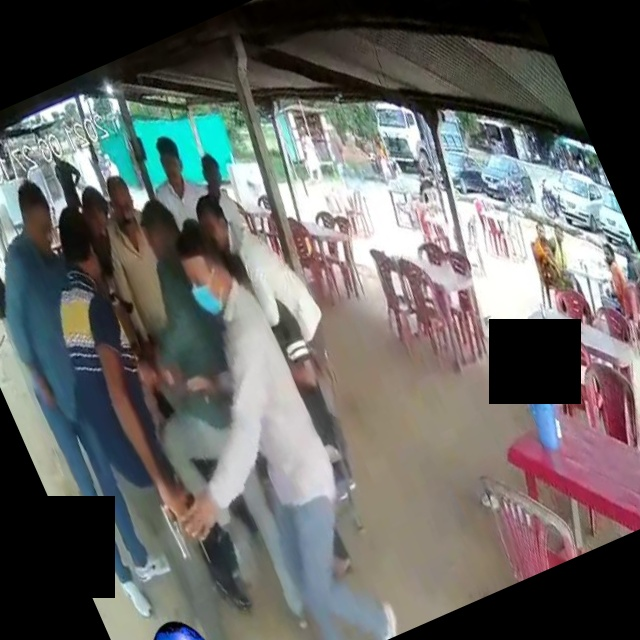gun: (143, 472, 221, 572)
